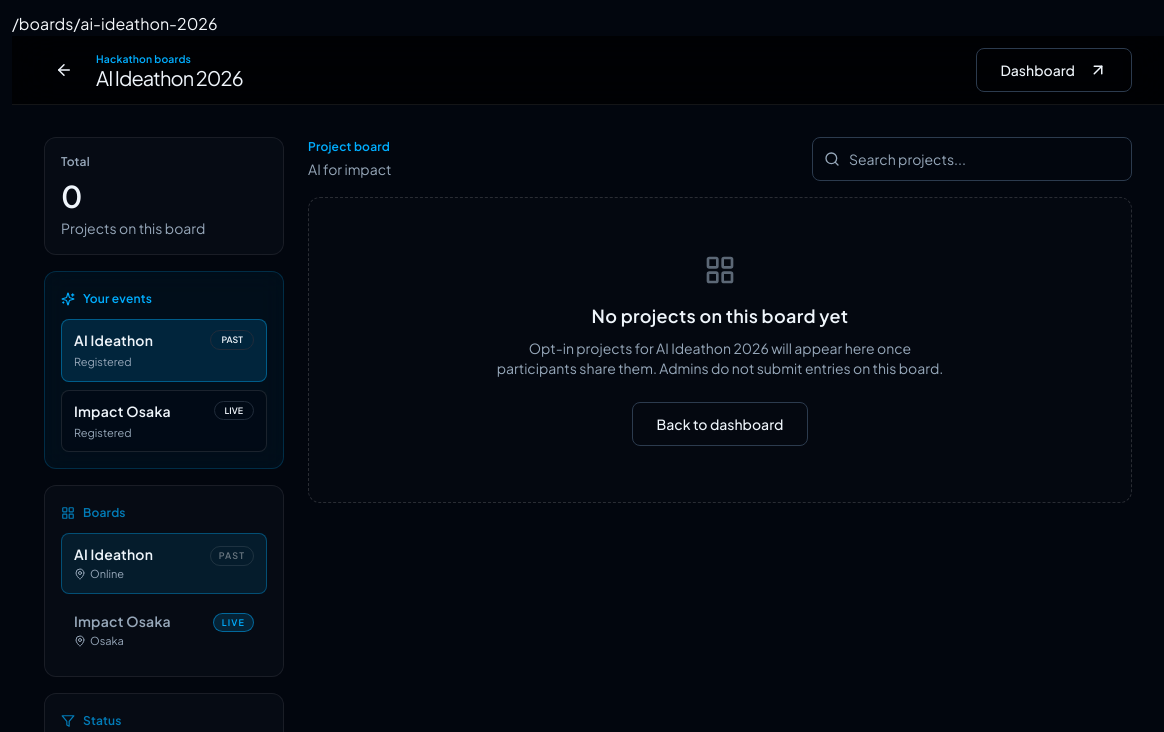
Test: judge and mentor board navigation › preserves the selected past event through the button back to judging
Check: the heading "AI Ideathon 2026" is shown, box [96,67,243,89]
Click the button named "Back to dashboard" at (64, 70), box [44,50,84,90]
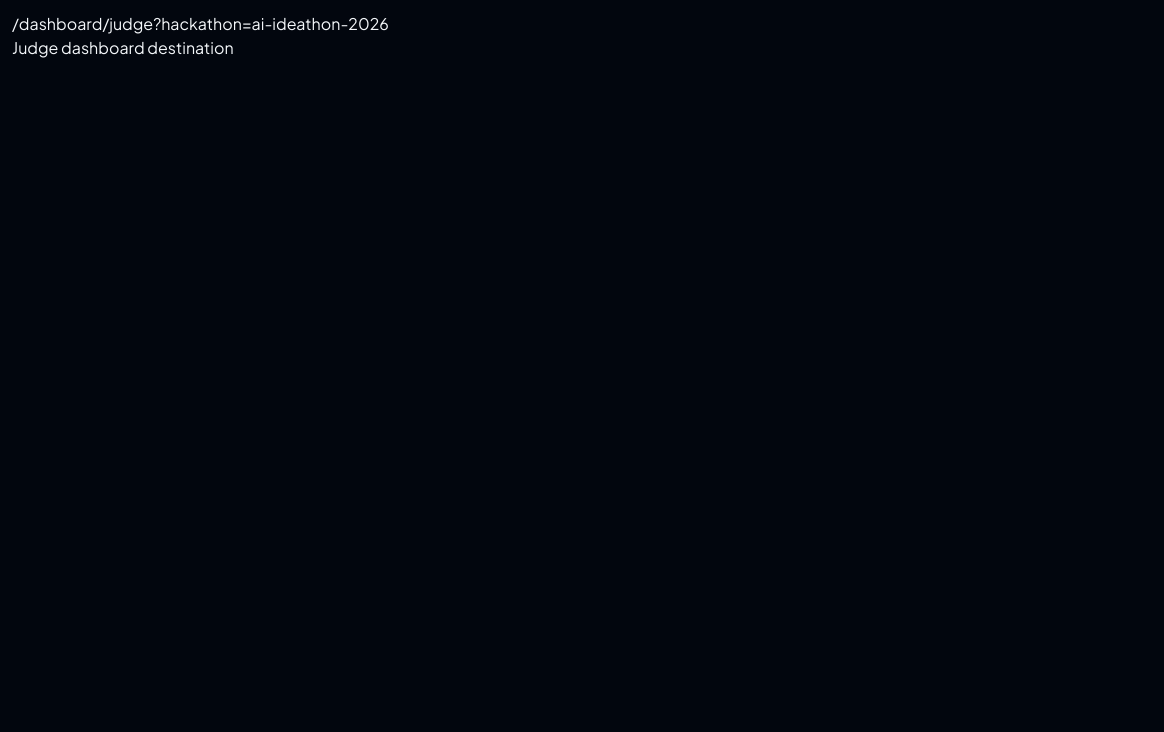
Check: the text "Judge dashboard destination" is shown, box [12,37,234,58]
